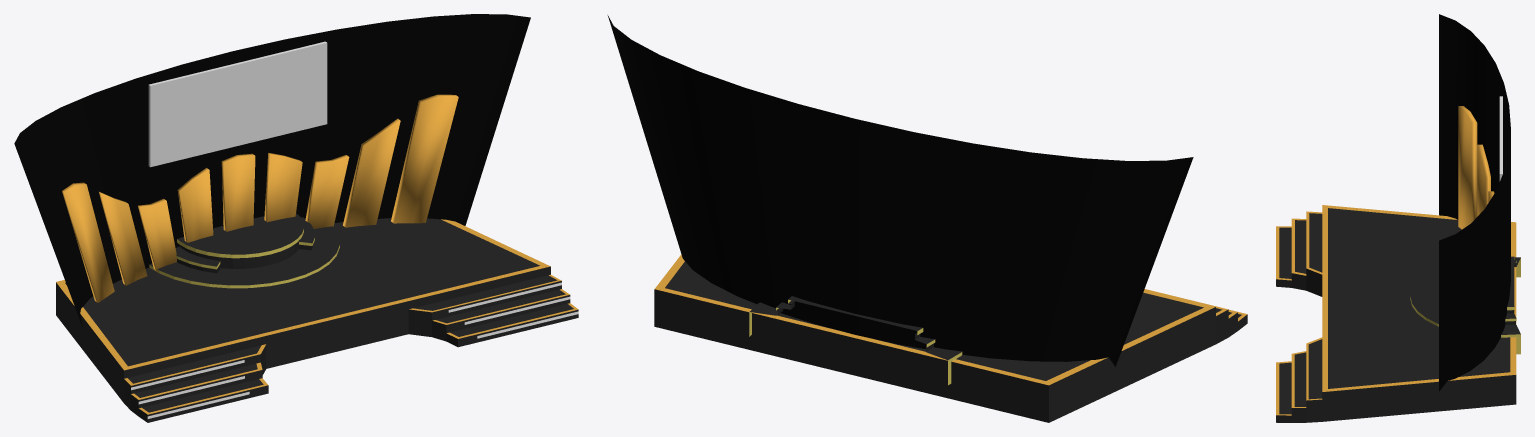
The model's file is stage_4.glb.
3 renders of one model, left to right at view 1: azimuth 30°, elevation 25°; view 2: azimuth 150°, elevation 25°; view 3: azimuth 270°, elevation 25°, orthographic. The views are drawn at different scales.
Parts seen in each view (by area): view 1: Cube_0, Cylinder.001_4, Cylinder.002_5, Cube.001_6, Cylinder_3; view 2: Cylinder.001_4, Cube_0, Cylinder_3; view 3: Cube_0, Cylinder.001_4, Cylinder.002_5, Cylinder_3, Cube.001_6.
Boxes of the visible parts, x1,y1,x2,y2 form: Cube_0: (56,218,578,422); Cylinder.001_4: (14,14,530,327); Cylinder.002_5: (62,94,458,302); Cube.001_6: (148,41,327,167); Cylinder_3: (149,213,339,288); Cylinder.001_4: (607,15,1193,366); Cube_0: (654,254,1247,422); Cylinder_3: (749,296,962,385); Cube_0: (1276,205,1516,422); Cylinder.001_4: (1439,14,1510,391); Cylinder.002_5: (1458,106,1494,229); Cylinder_3: (1410,256,1520,354); Cube.001_6: (1499,96,1502,181).
Size of the model in its own units: 19.34 by 8 by 8.83.
